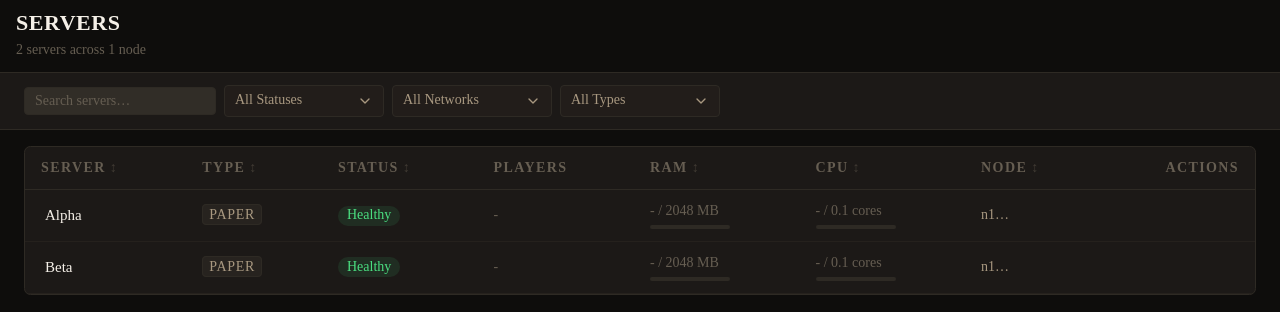
Test: ServersPage › Filter search › search filters by display_name
Expected: the text "Alpha" is shown, [45, 207, 82, 223]
Type "Alpha" into the field with placeholder "Search servers…" at (120, 101), box [24, 87, 216, 115]
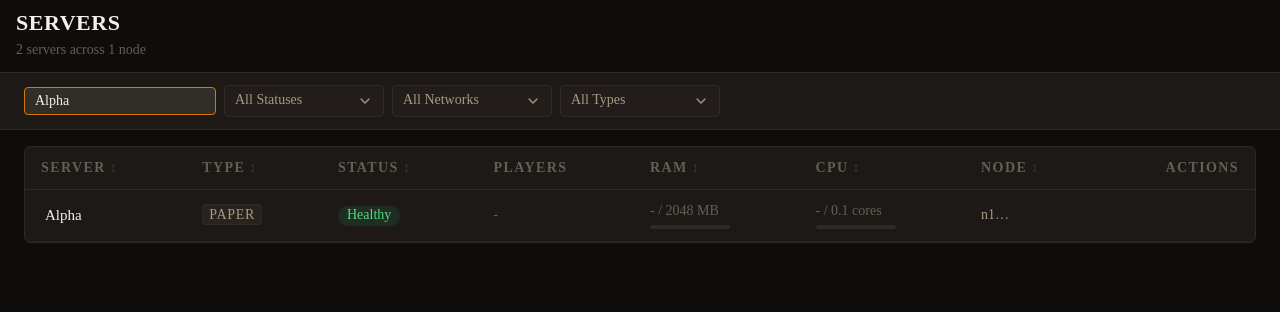
Expected: the text "Alpha" is shown, [45, 207, 82, 223]
Expected: the text "Beta" is gone
